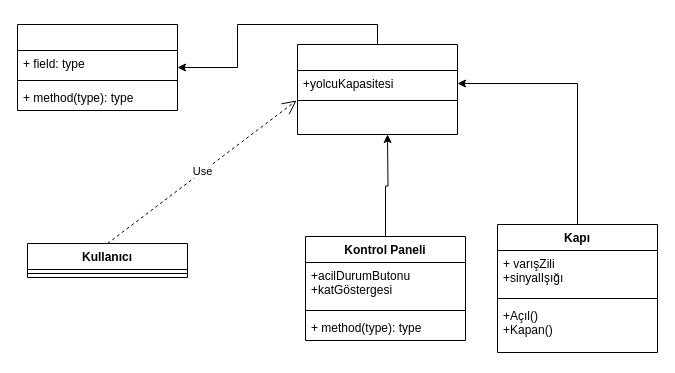
The diagram is 675 pixels wide and 373 high, and some of its shapes have lost their labels. The box of each missing label's shape, as (x1, y1, x2, y2) in pixels:
Asansör: (296, 44, 458, 134)
Asansör Boşluğu: (16, 24, 178, 110)
